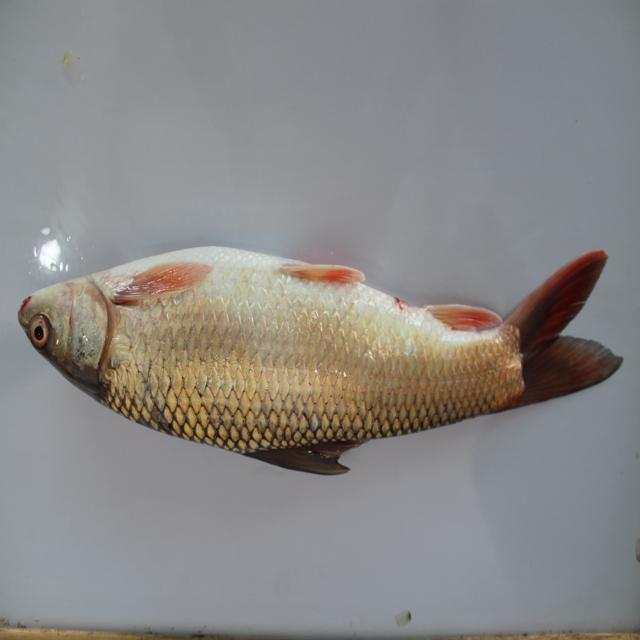Mori: (8, 226, 615, 496)
